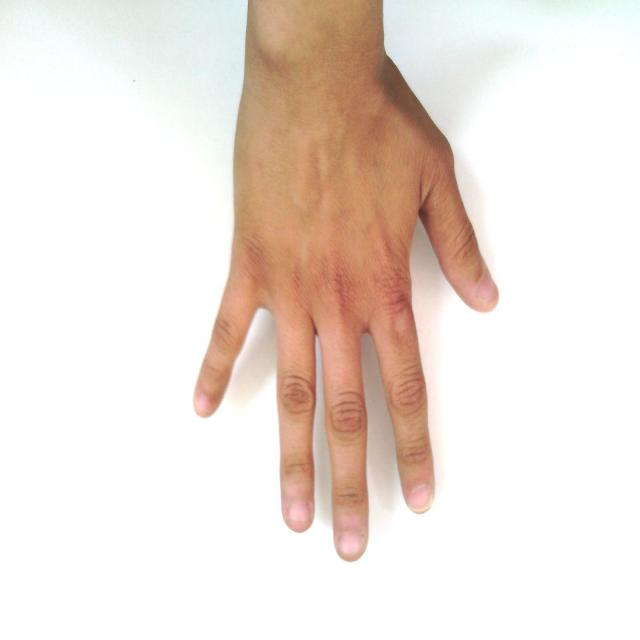others: (168, 1, 540, 571)
